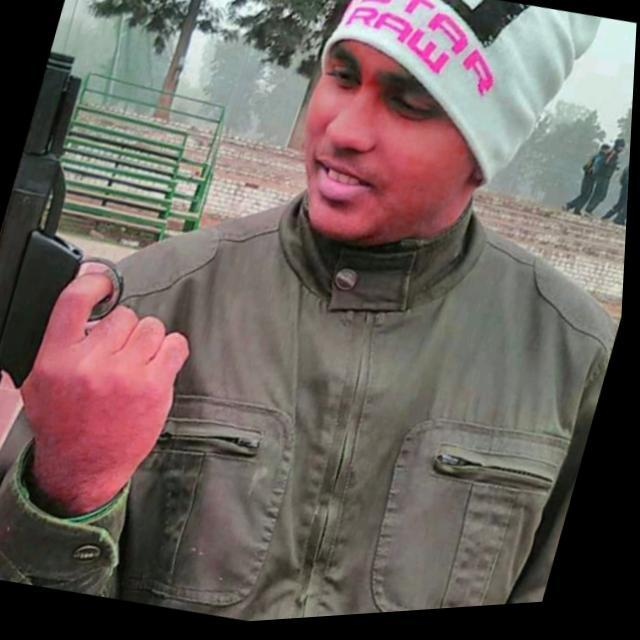weapon: (0, 33, 268, 455)
